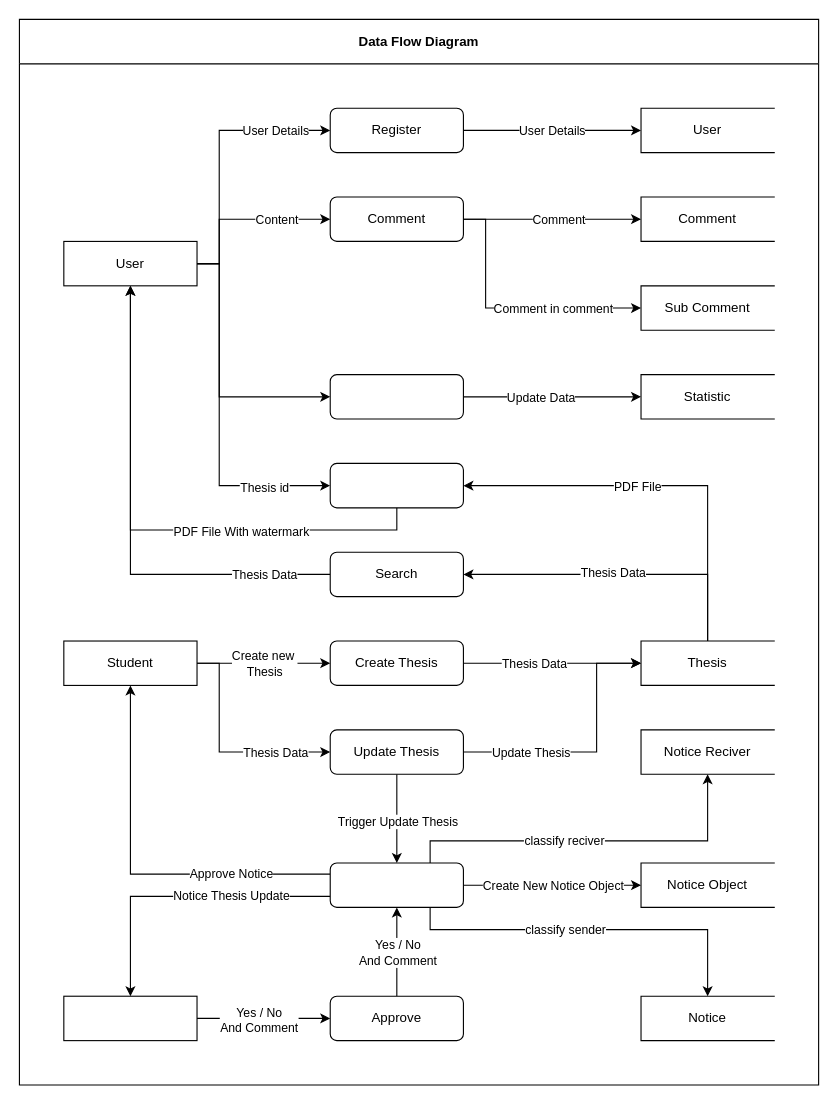
Image size: 838x1104. Some labels were removed from this diagram. Here are the shapes that lost their labels. From the top down, the centre of each, then its label:
At (x=396, y=396): "Read Thesis".
At (x=396, y=485): "Download".
At (x=396, y=884): "Notification".
At (x=130, y=1018): "Teacher".
